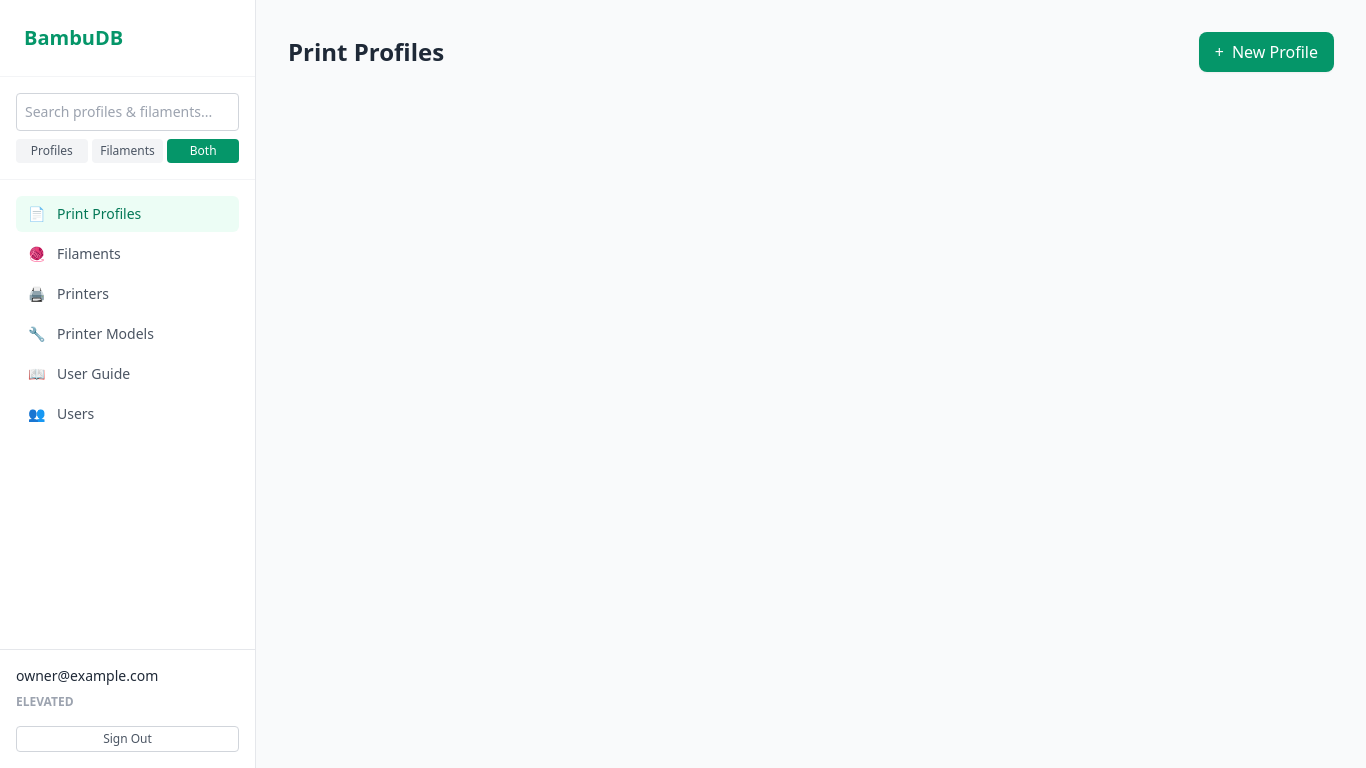
Test: App.vue — access levels › filters the users list by the search box
Click the button "👥 Users" at (128, 414), box [16,396,239,432]
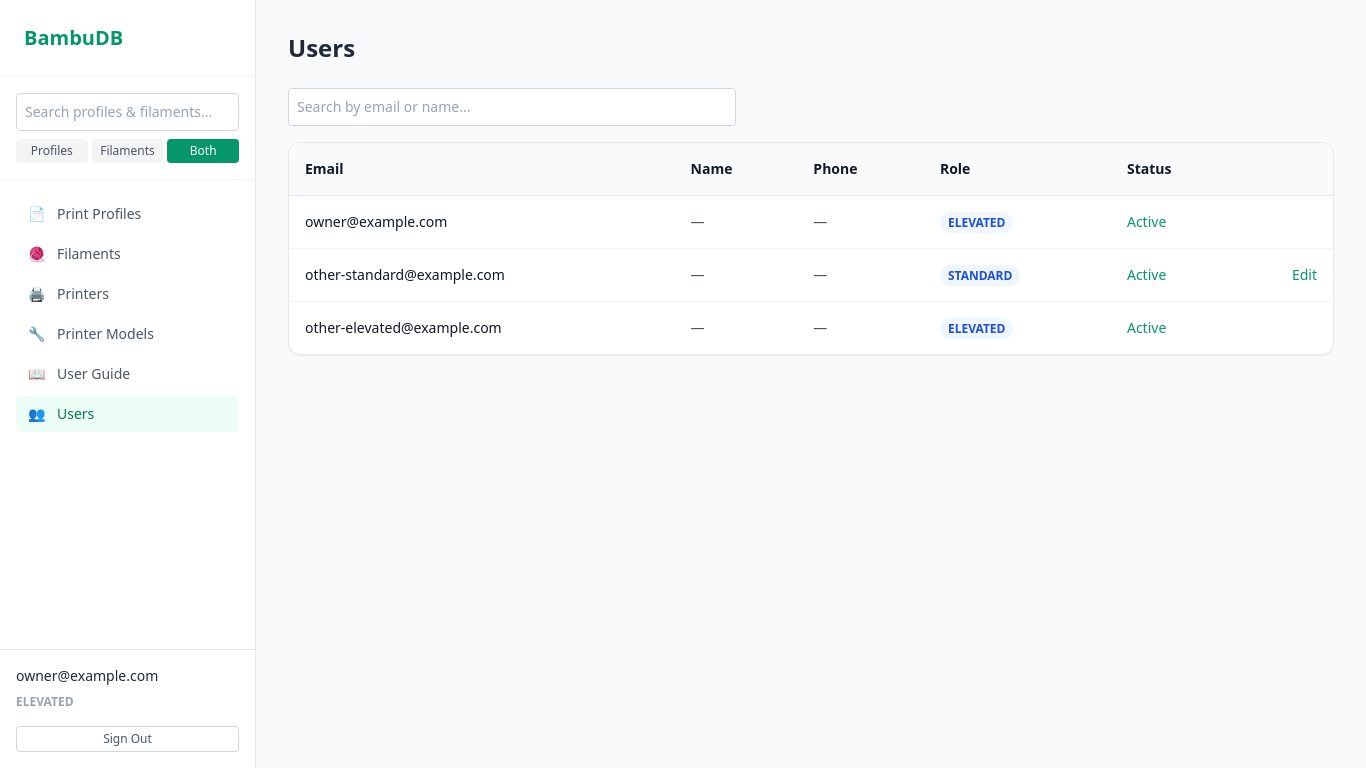
Type "other-elevated" into the field with placeholder "Search by email or name..." at (512, 107), box [288,88,736,126]
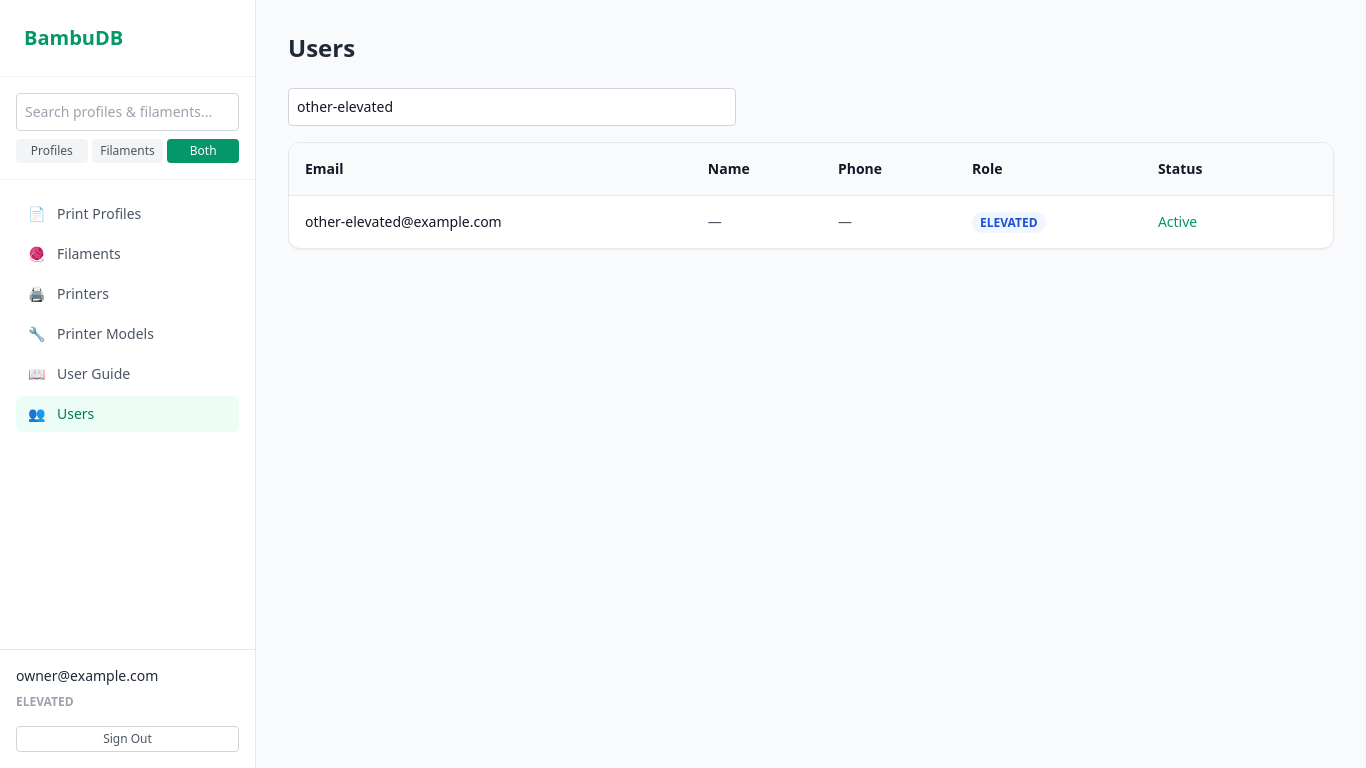
Result: the text "other-elevated@example.com" is shown at [289,196,692,248]
Result: the text "other-standard@example.com" is gone
